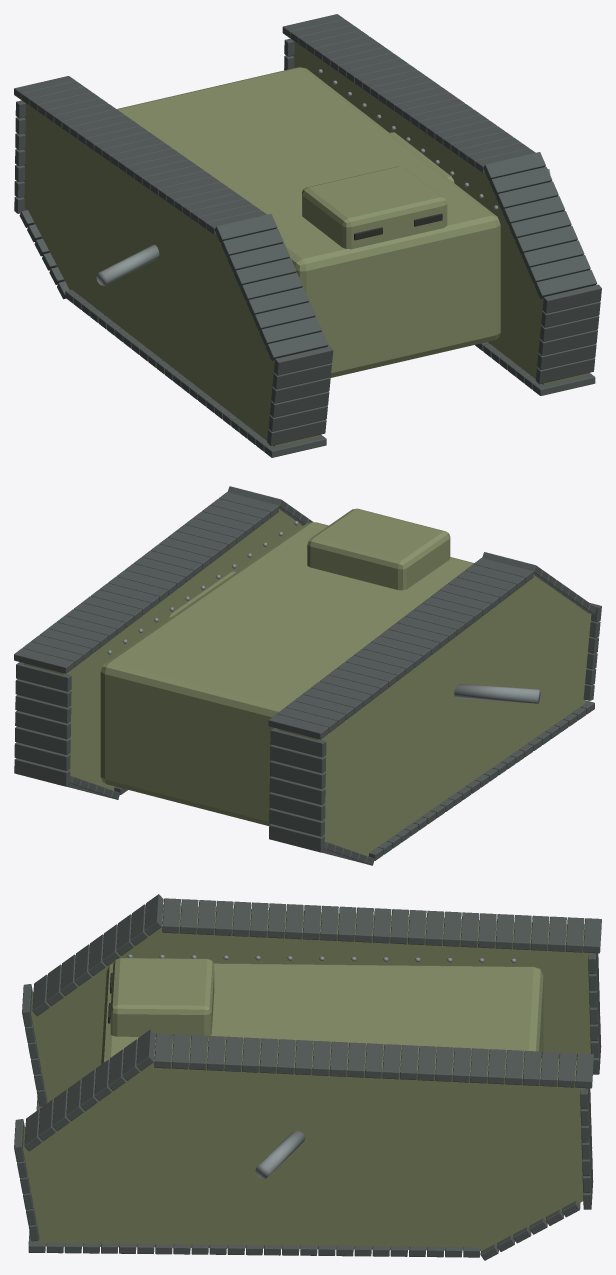
File: early-tank.glb
3 renders of one model, top to bottom at view 1: azimuth 30°, elevation 25°; view 2: azimuth 150°, elevation 25°; view 3: azimuth 270°, elevation 25°, orthographic. The views are drawn at different scales.
Visible parts, largest first — view 1: unit_root_geometry; view 2: unit_root_geometry; view 3: unit_root_geometry.
Boxes of the visible parts, x1=… form: unit_root_geometry: x1=14, y1=14, x2=601, y2=457; unit_root_geometry: x1=14, y1=486, x2=601, y2=865; unit_root_geometry: x1=14, y1=894, x2=601, y2=1260.
Size of the model in its own units: 3.03 by 1.25 by 3.31.
